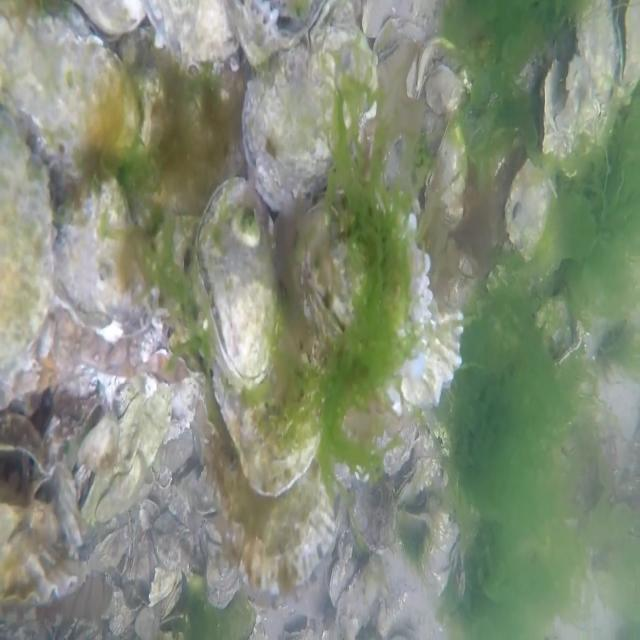Oyster-Closed: (240, 27, 378, 214), (0, 14, 140, 167), (54, 175, 160, 343), (0, 129, 55, 410), (198, 182, 270, 368), (224, 0, 329, 66), (423, 112, 470, 212), (508, 159, 556, 253), (396, 456, 424, 508)
Oyster-Indeterminate: (298, 198, 463, 411), (215, 381, 336, 592), (210, 295, 332, 487), (78, 387, 174, 522), (542, 0, 617, 157), (139, 0, 240, 74), (0, 530, 88, 608), (343, 455, 396, 552), (335, 562, 383, 640), (418, 34, 462, 110), (205, 522, 241, 610)
Oyster-Open: (0, 412, 55, 508), (615, 0, 640, 99), (325, 553, 359, 608), (375, 37, 416, 75), (403, 493, 432, 526)
